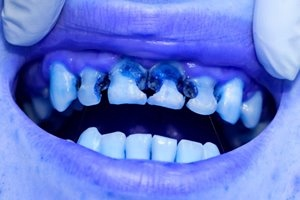karies: (146, 63, 184, 100), (117, 59, 146, 99), (174, 77, 201, 101), (94, 69, 112, 100), (211, 79, 228, 104), (70, 72, 84, 92)
